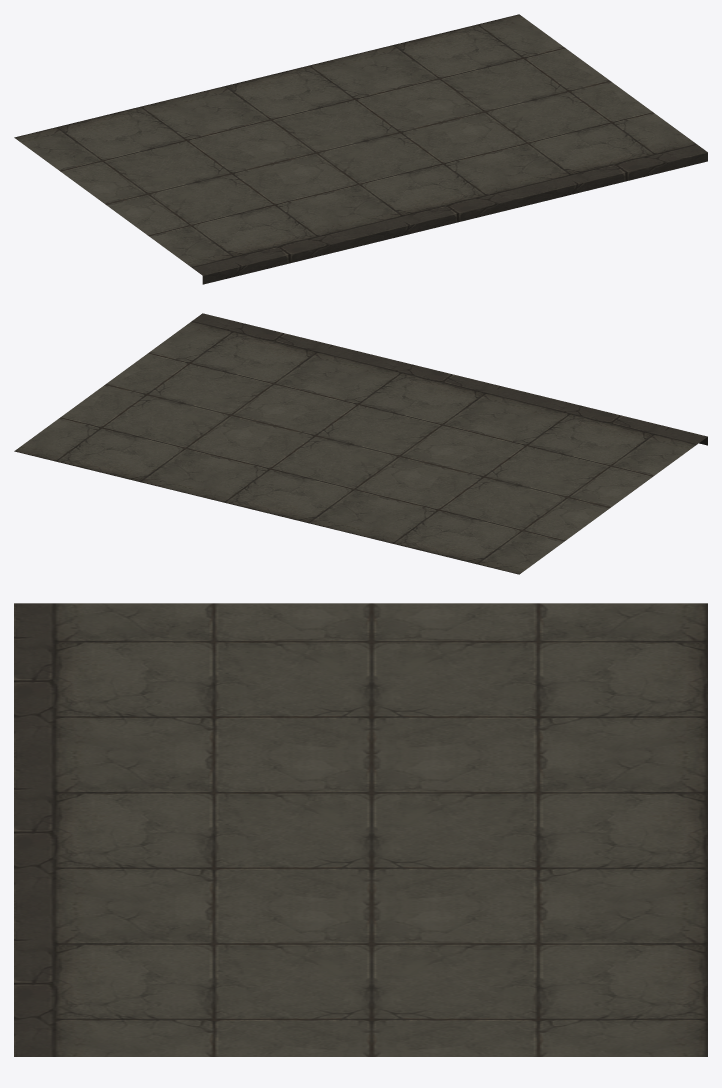
Rendered from Stage-gongchang-bianlu3.FBX.
3 views of the same model, one above another, from view 1: azimuth 30°, elevation 25°; view 2: azimuth 150°, elevation 25°; view 3: azimuth 270°, elevation 25° (orthographic). The views are drawn at different scales.
Visible parts, largest first — view 1: Box503; view 2: Box503; view 3: Box503.
Boxes of the visible parts, x1,y1,x2,y2 form: Box503: (14, 14, 707, 284); Box503: (14, 313, 707, 574); Box503: (14, 603, 707, 1056).
Bounding box in the file's own units: 16.8 × 10.86 × 0.2881.
